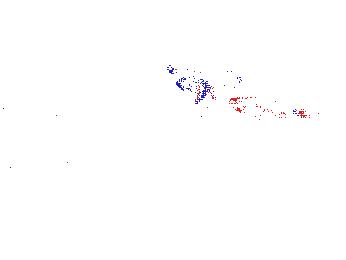X-ray fish: (1, 173, 47, 216)
redtail glassfish: (163, 61, 252, 89), (225, 95, 307, 121), (173, 75, 218, 106)
